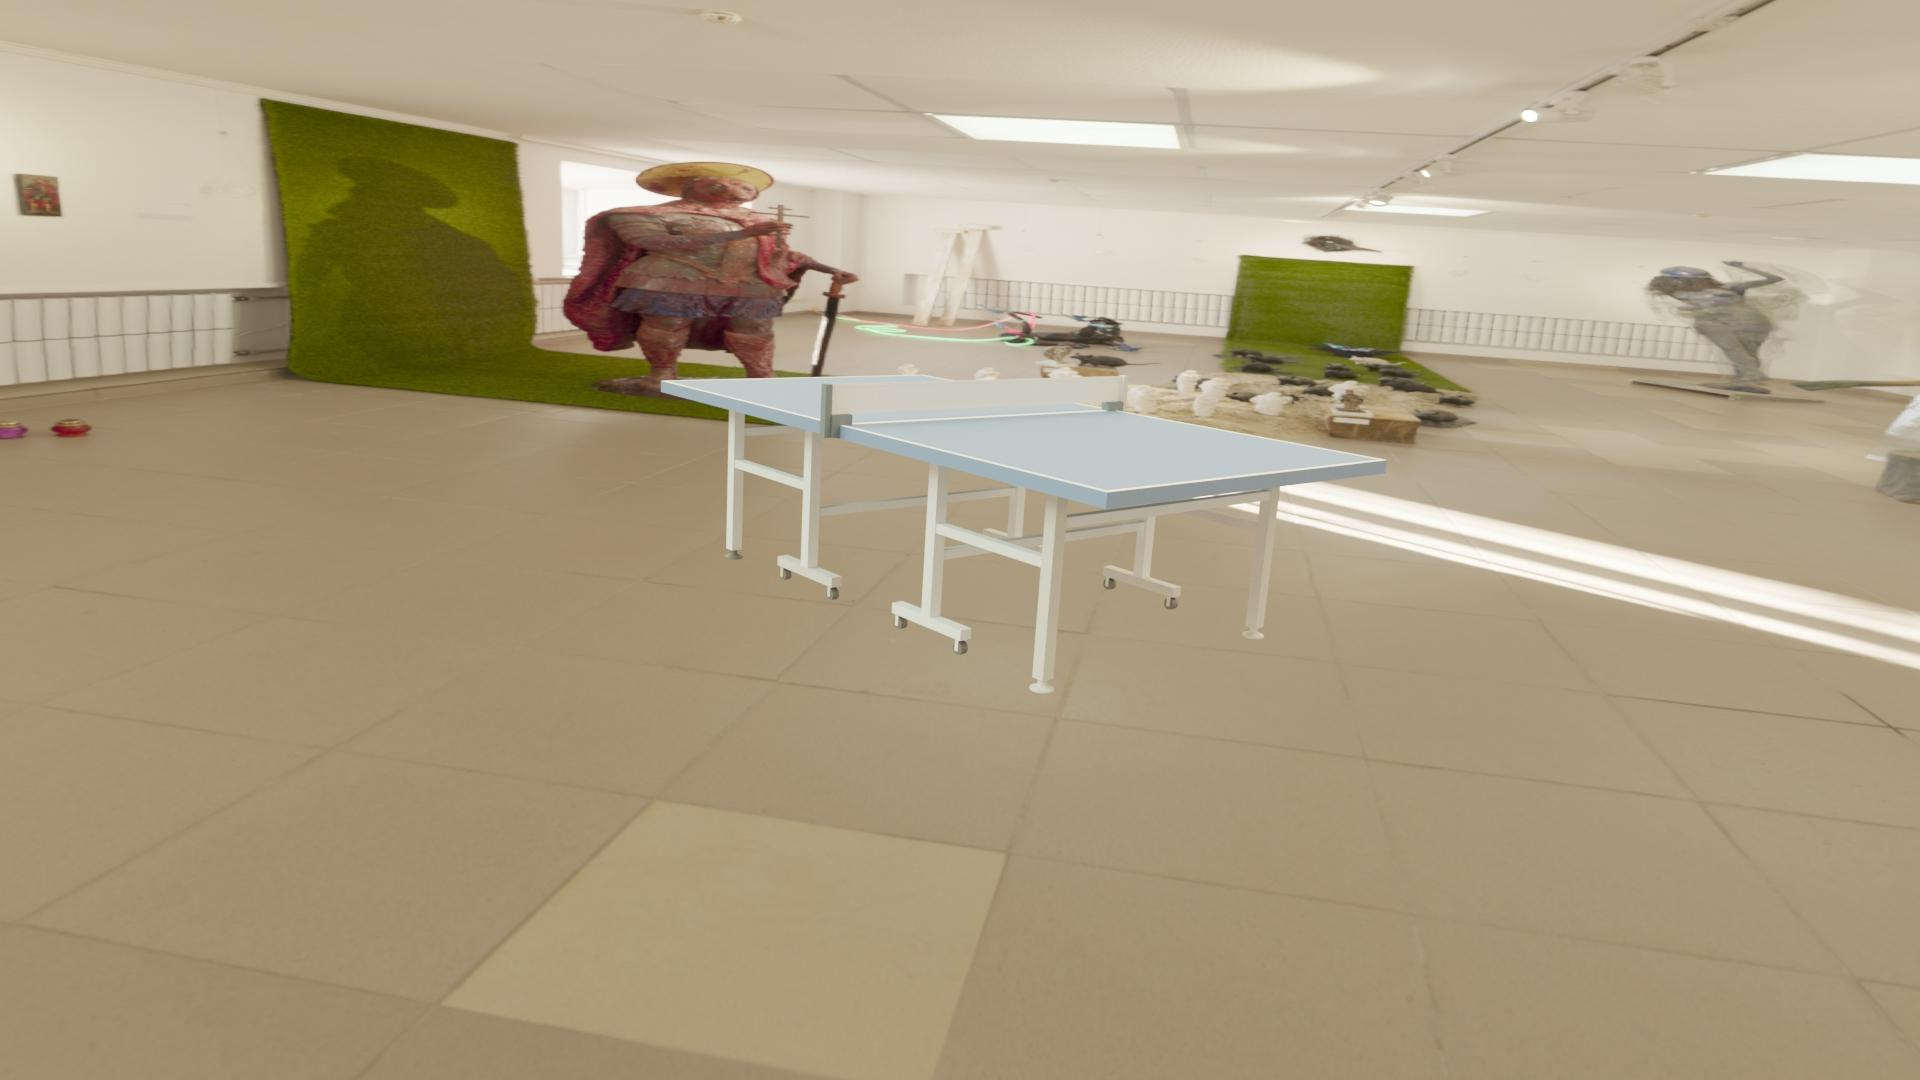table: (667, 376, 1379, 491)
